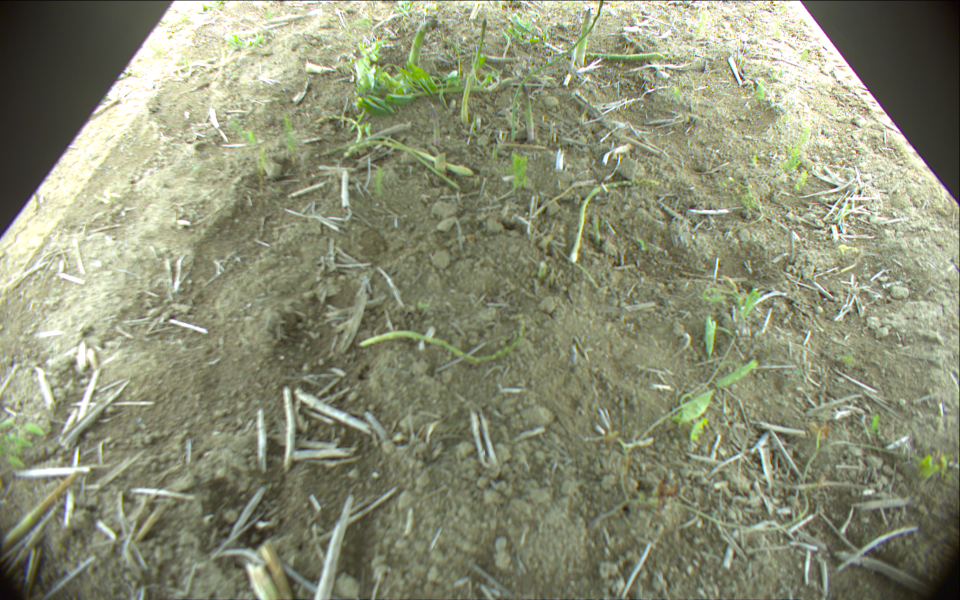aspa: (513, 1, 603, 141), (570, 179, 670, 263), (360, 321, 525, 363), (461, 18, 486, 122), (548, 47, 665, 61), (408, 16, 436, 68), (575, 6, 593, 63), (520, 82, 533, 143), (430, 110, 441, 148)
